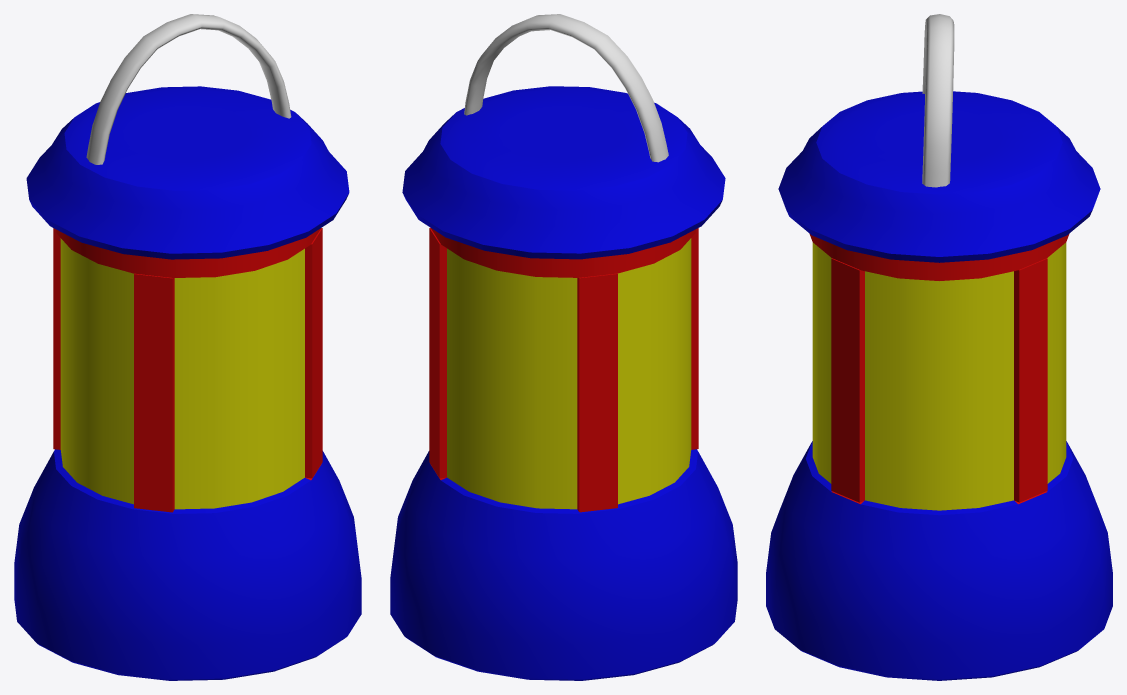
File: Lantern.fbx
3 renders of one model, left to right at view 1: azimuth 30°, elevation 25°; view 2: azimuth 150°, elevation 25°; view 3: azimuth 270°, elevation 25°, orthographic.
Parts seen in each view (by area): view 1: Lantern, Lantern_Handle; view 2: Lantern, Lantern_Handle; view 3: Lantern, Lantern_Handle.
Part boxes in pixels (<box>): Lantern: <box>14,86,361,680</box>; Lantern_Handle: <box>86,14,291,164</box>; Lantern: <box>390,86,737,680</box>; Lantern_Handle: <box>464,14,668,162</box>; Lantern: <box>766,91,1112,680</box>; Lantern_Handle: <box>922,14,954,187</box>.
Bounding box in the file's own units: 2.73 × 5.09 × 2.73.
